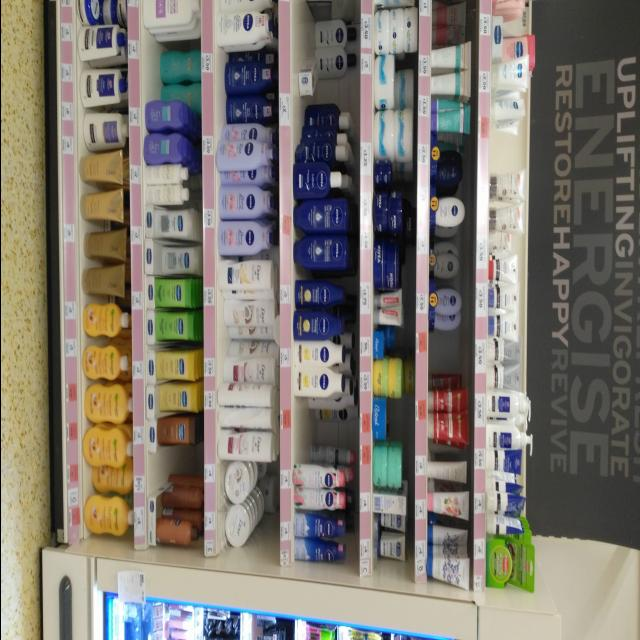empty_space: (293, 409, 340, 448), (428, 338, 468, 382), (294, 19, 322, 76), (429, 4, 467, 42), (489, 133, 519, 174), (138, 52, 160, 96), (433, 145, 463, 175), (149, 452, 167, 486)
